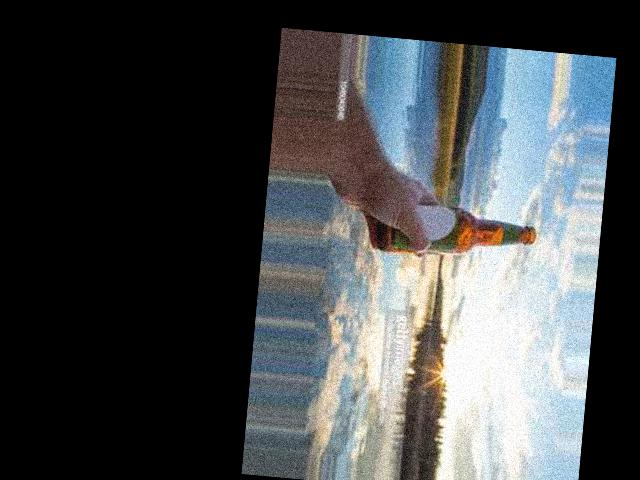beer: (377, 199, 539, 268)
